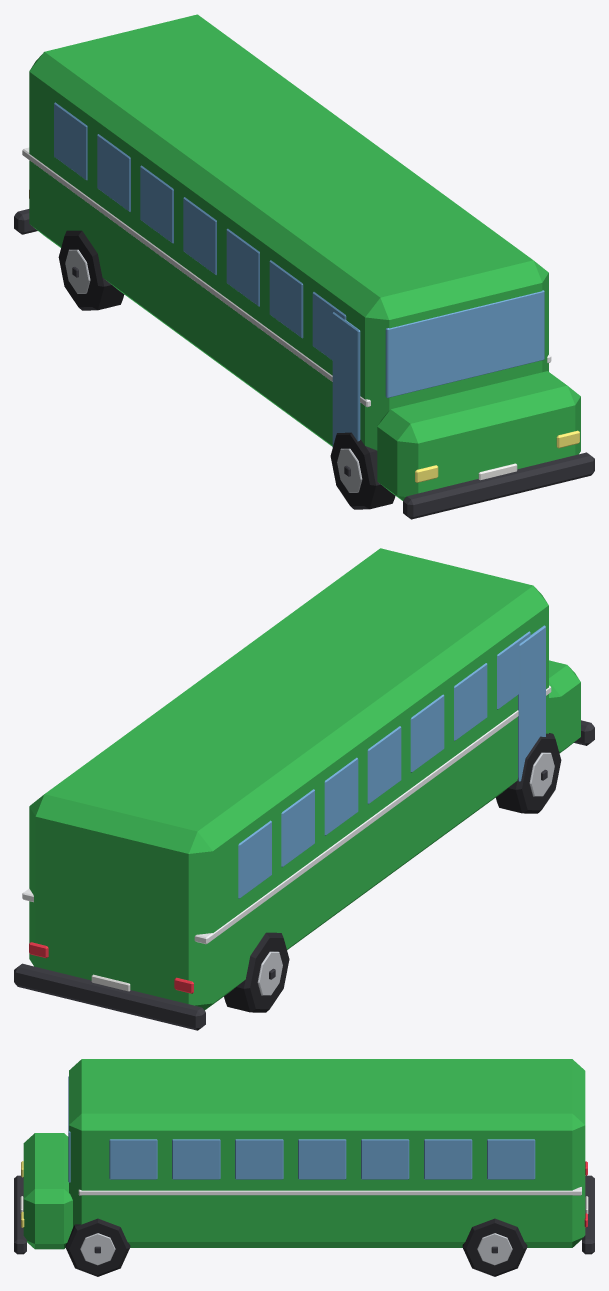
File: CityBus.fbx
3 renders of one model, top to bottom at view 1: azimuth 30°, elevation 25°; view 2: azimuth 150°, elevation 25°; view 3: azimuth 270°, elevation 25°, orthographic. The views are drawn at different scales.
Parts seen in each view (by area): view 1: CityBus, CityBus_WheelFR, CityBus_WheelBR; view 2: CityBus, CityBus_WheelBR, CityBus_WheelFR; view 3: CityBus, CityBus_WheelFL, CityBus_WheelBL.
Boxes of the visible parts, left/top/right/bottom form: CityBus: left=14, top=14, right=594, bottom=519; CityBus_WheelFR: left=330, top=432, right=395, bottom=509; CityBus_WheelBR: left=58, top=230, right=124, bottom=310; CityBus: left=14, top=548, right=594, bottom=1030; CityBus_WheelBR: left=224, top=932, right=289, bottom=1012; CityBus_WheelFR: left=496, top=733, right=561, bottom=813; CityBus: left=14, top=1059, right=594, bottom=1254; CityBus_WheelFL: left=65, top=1218, right=130, bottom=1276; CityBus_WheelBL: left=462, top=1218, right=527, bottom=1276.
Bounding box in the file's own units: 5.22 × 5.4 × 18.
Materials: 1 (1 with a texture image).
